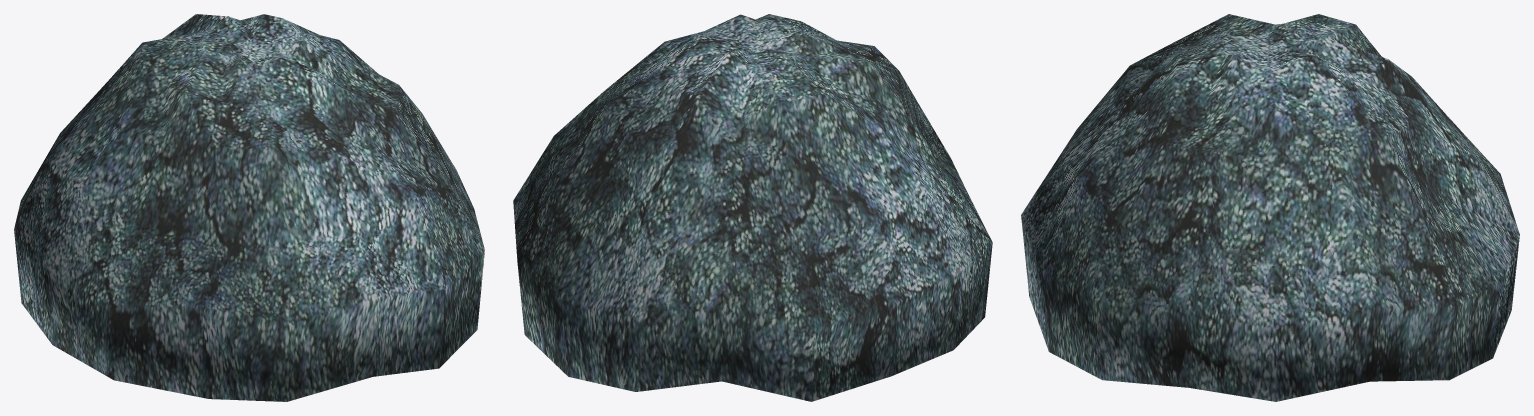
File: rock_crystl_watrbush_sm_l0.fbx
The picture shows the model from 3 angles, left to right: view 1: azimuth 30°, elevation 25°; view 2: azimuth 150°, elevation 25°; view 3: azimuth 270°, elevation 25°; orthographic projection.
Visible parts, largest first — view 1: mesh_node; view 2: mesh_node; view 3: mesh_node.
Boxes of the visible parts, <box> form: mesh_node: <box>14,14,484,401</box>; mesh_node: <box>513,14,992,401</box>; mesh_node: <box>1021,14,1519,401</box>.
Bounding box in the file's own units: 2.11 × 1.5 × 2.19.
